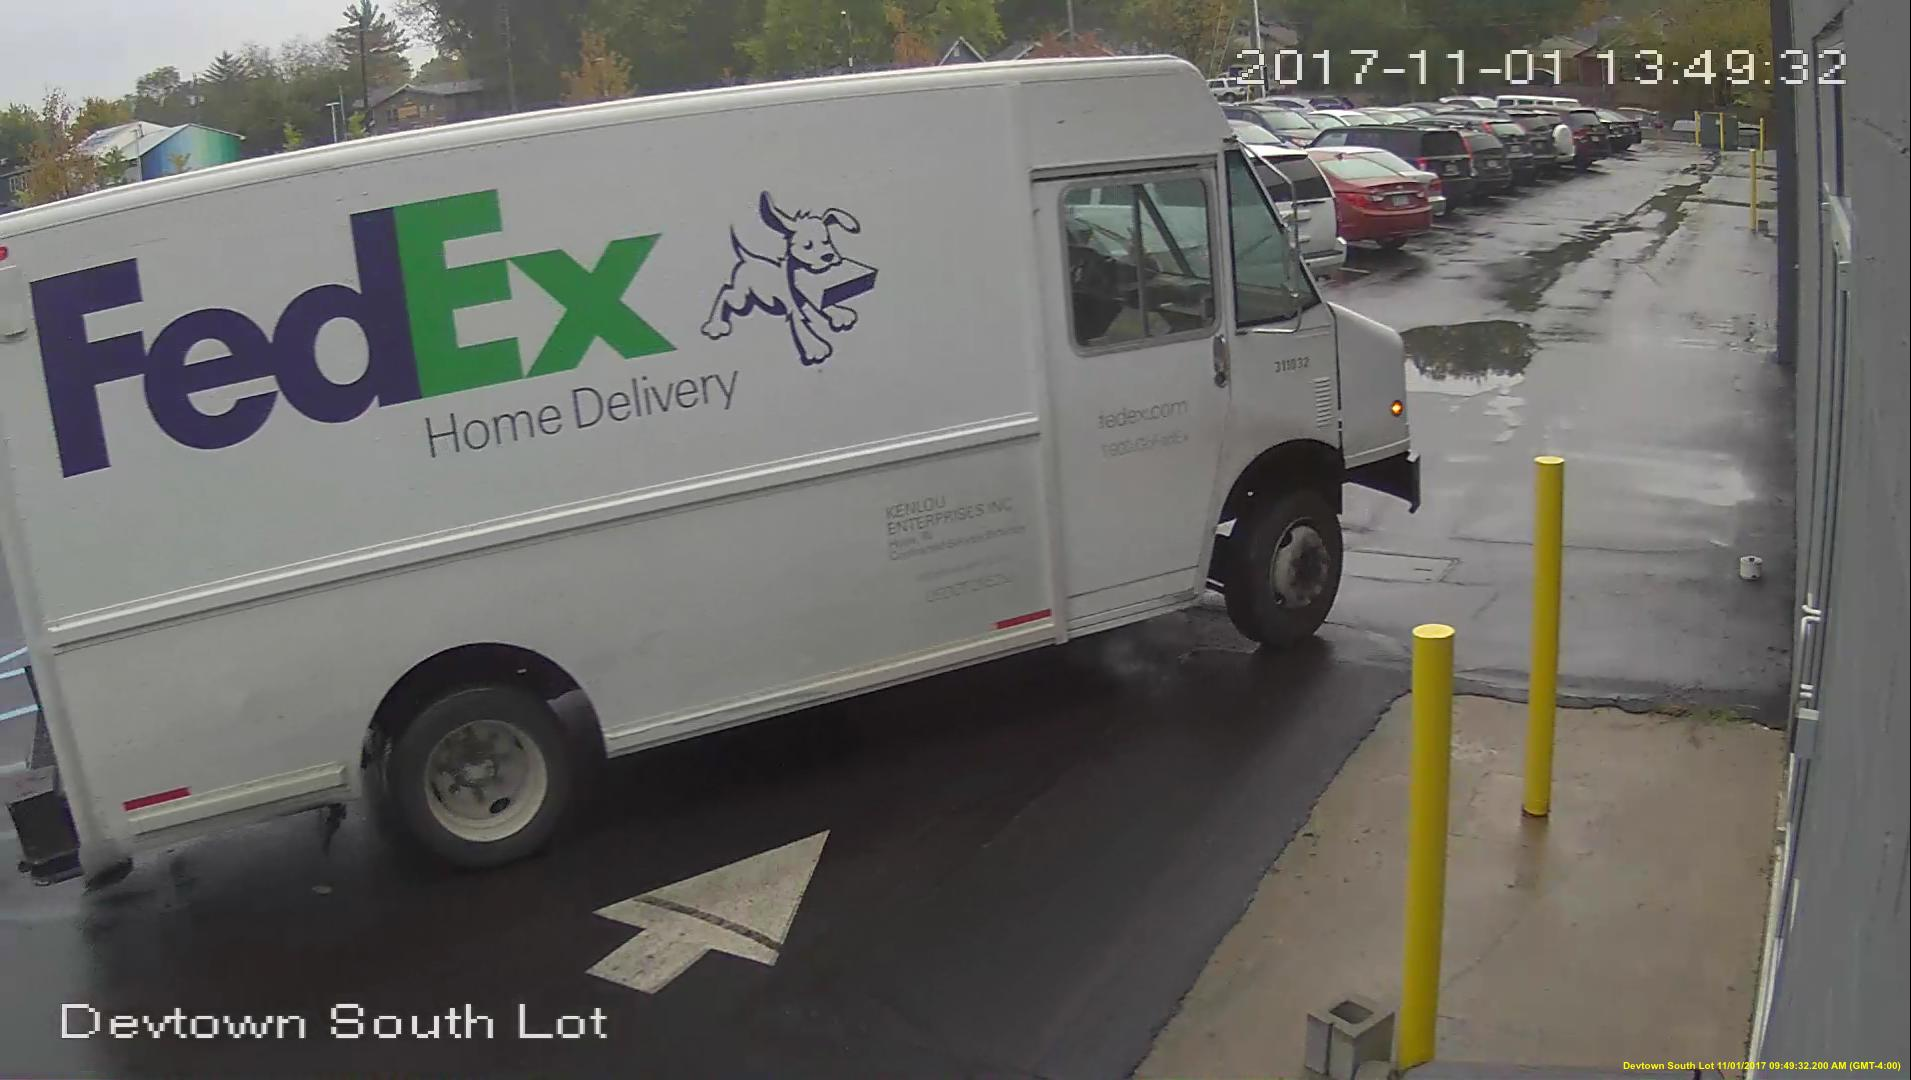fedex_truck: (3, 59, 1414, 887)
